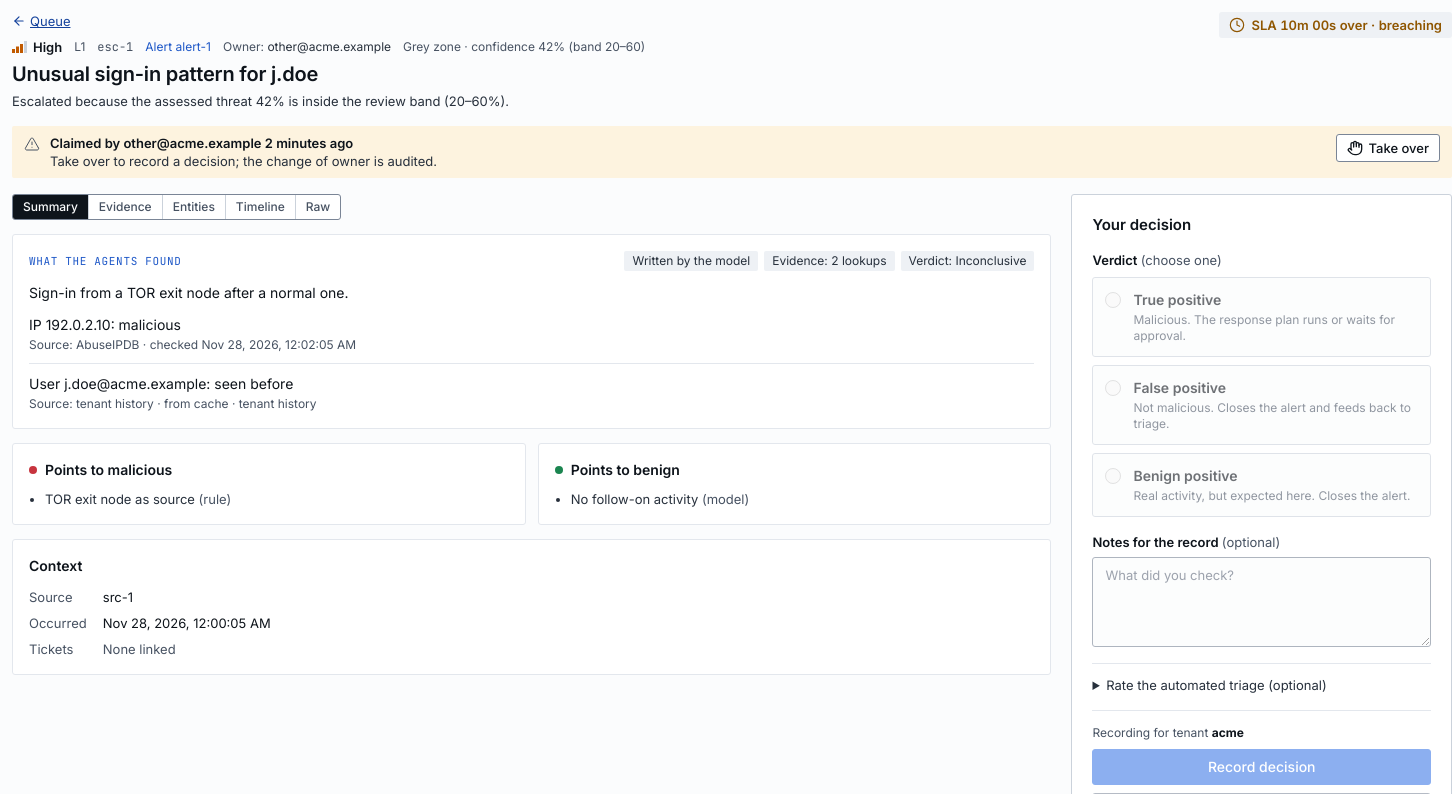
Scenario: decision page header and claim state › lets an admin take over
Expected: the heading "Unusual sign-in pattern for j.doe" is shown, left=12, top=62, right=318, bottom=86
Step 1. Click the button "Take over" → [1388, 148], box left=1336, top=134, right=1440, bottom=162
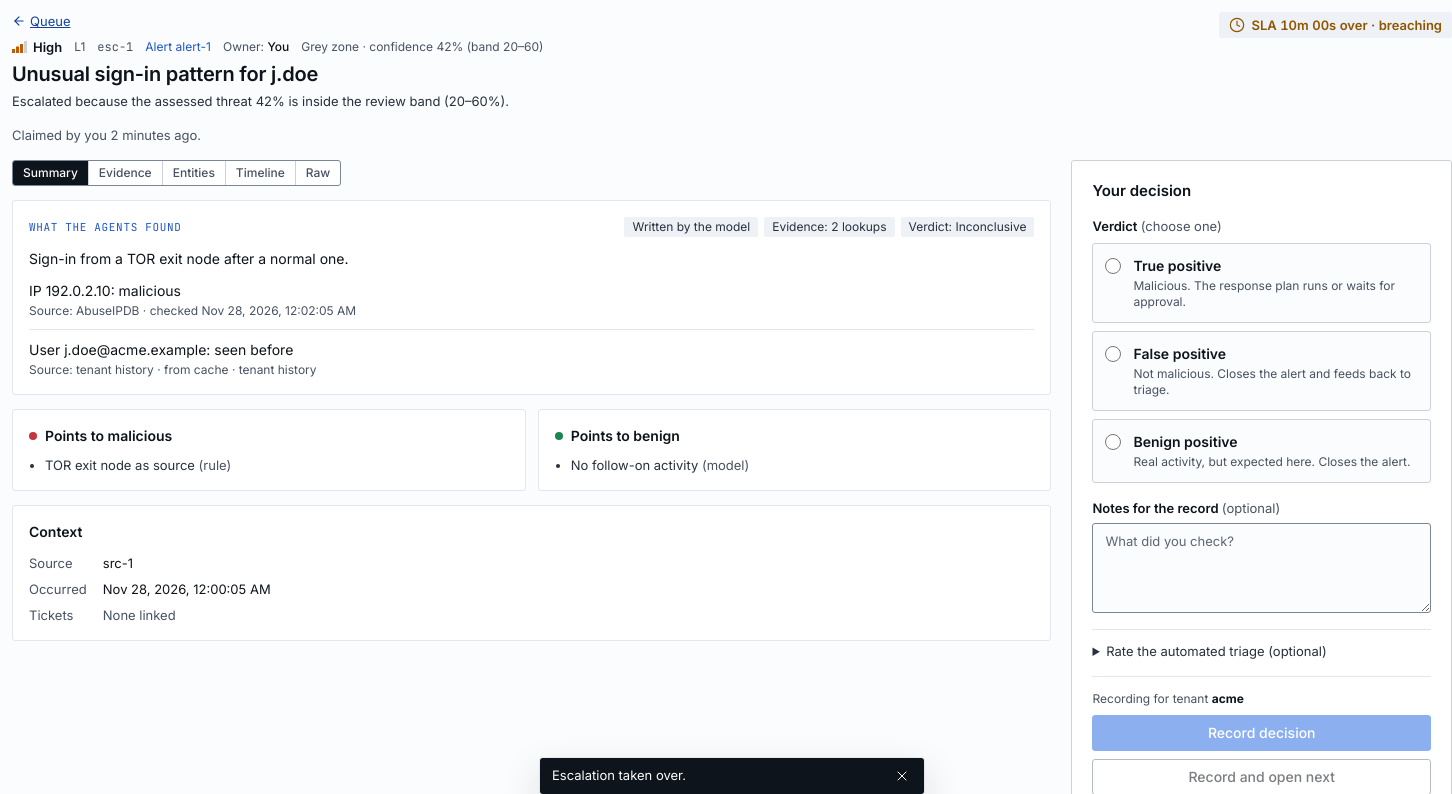
Expected: the text "Escalation taken over." is shown, left=552, top=767, right=686, bottom=783
